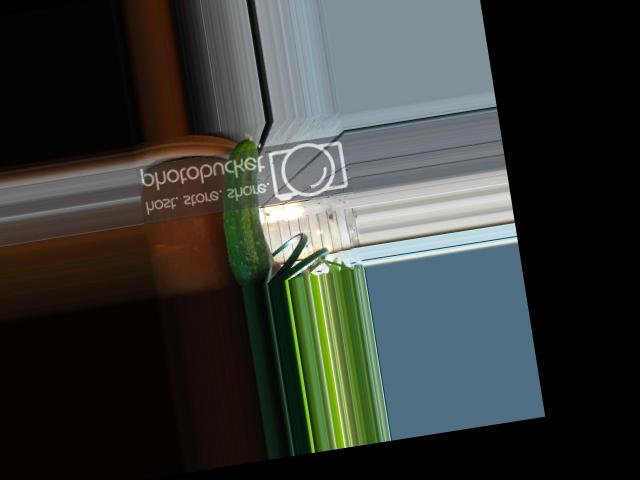cucumber: (210, 130, 278, 287)
